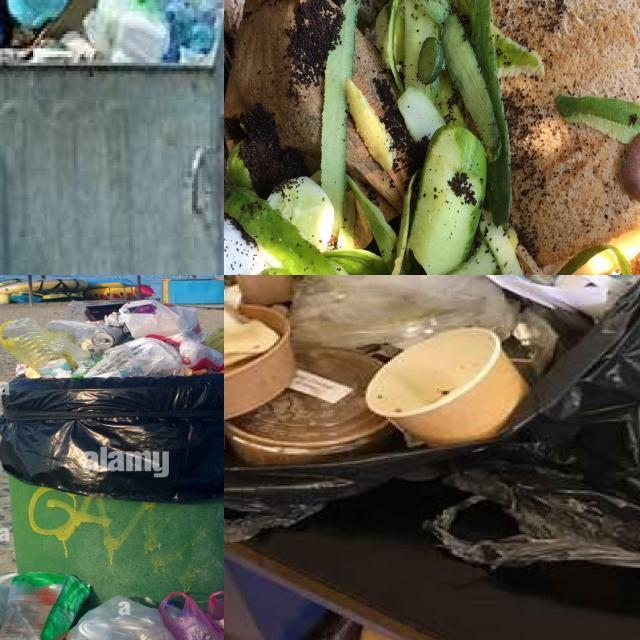Garbage: (224, 0, 640, 275), (224, 275, 640, 469), (0, 300, 224, 378), (0, 573, 224, 640), (33, 0, 224, 65)
Plastic: (293, 275, 518, 348)
Plastic_Bag: (0, 573, 90, 640), (62, 596, 176, 640), (85, 337, 186, 377), (120, 299, 203, 340), (159, 591, 224, 640), (46, 320, 96, 369), (7, 0, 70, 29), (179, 340, 224, 371), (85, 304, 125, 321), (205, 326, 224, 356)
Plastic_bottle: (138, 0, 224, 62), (0, 317, 77, 378)
can: (90, 325, 122, 352)
